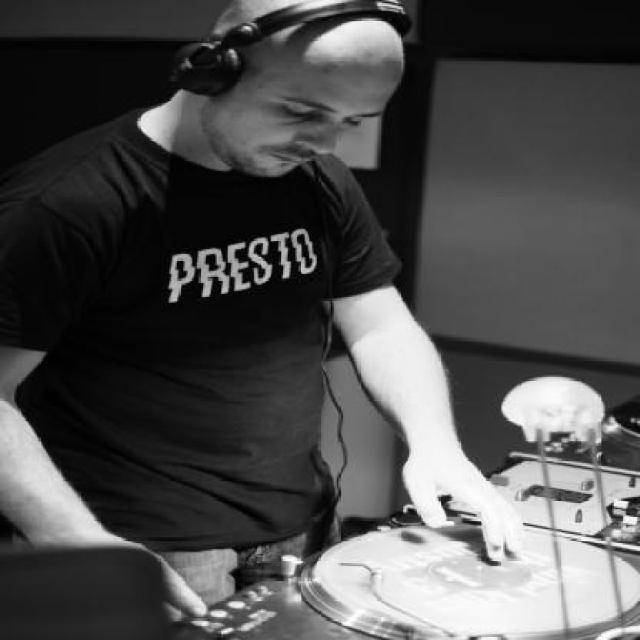earphone: (160, 7, 442, 116)
